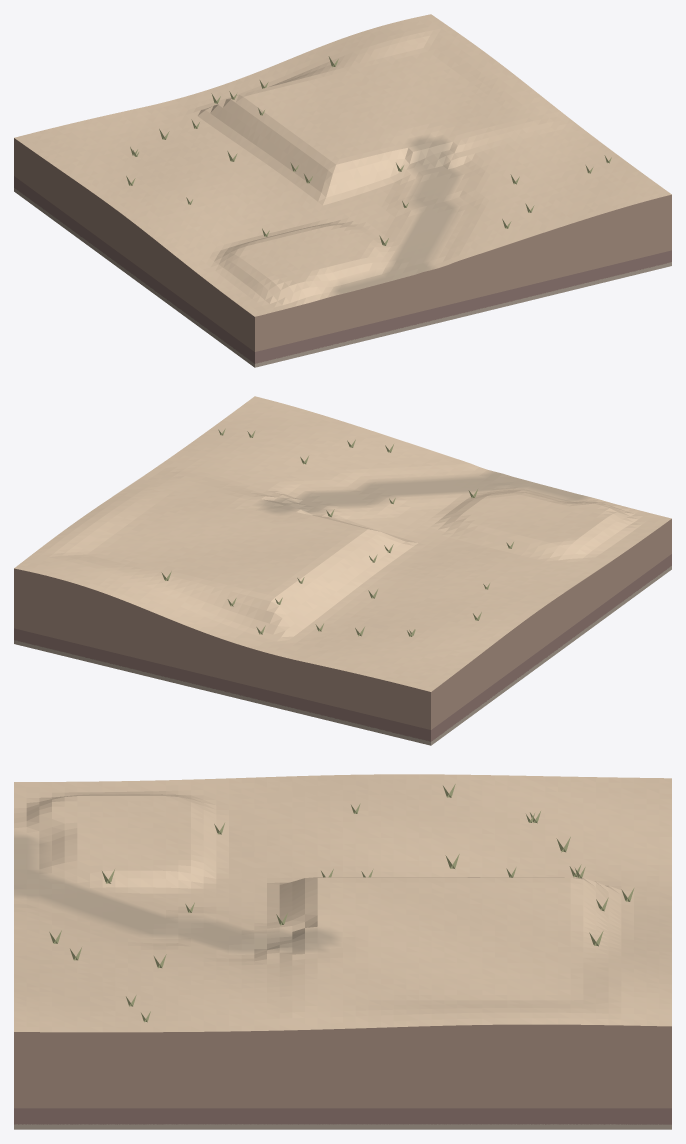
3 views of the same model, one above another, from view 1: azimuth 30°, elevation 25°; view 2: azimuth 150°, elevation 25°; view 3: azimuth 270°, elevation 25° (orthographic). The views are drawn at different scales.
Visible parts, largest first — view 1: proc_ground, proc_skirt, proc_grass; view 2: proc_ground, proc_skirt, proc_grass; view 3: proc_ground, proc_skirt, proc_grass.
Part boxes in pixels (left/top/right/bottom): proc_ground: left=14, top=14, right=671, bottom=316; proc_skirt: left=14, top=138, right=671, bottom=367; proc_grass: left=126, top=56, right=611, bottom=245; proc_ground: left=14, top=396, right=671, bottom=691; proc_skirt: left=14, top=519, right=671, bottom=745; proc_grass: left=161, top=428, right=513, bottom=636; proc_ground: left=14, top=774, right=671, bottom=1032; proc_skirt: left=14, top=1024, right=671, bottom=1129; proc_grass: left=49, top=784, right=634, bottom=1022.
Bounding box in the file's own units: 8 × 1.54 × 8.
